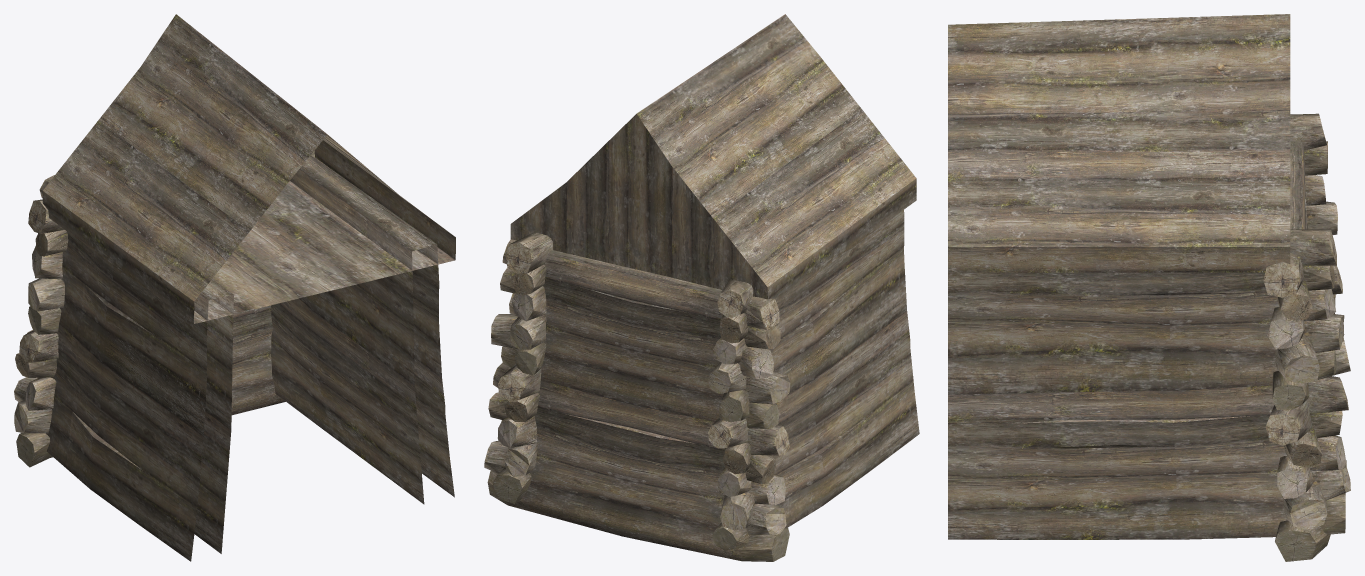
File: bg_atm_loghill_commonhouse09_sm_kdh.FBX
3 renders of one model, left to right at view 1: azimuth 30°, elevation 25°; view 2: azimuth 150°, elevation 25°; view 3: azimuth 270°, elevation 25°, orthographic. The views are drawn at different scales.
Visible parts, largest first — view 1: bg_atm_loghill_commonhouse09_sm_kdh; view 2: bg_atm_loghill_commonhouse09_sm_kdh; view 3: bg_atm_loghill_commonhouse09_sm_kdh.
Boxes of the visible parts, left/top/right/bottom form: bg_atm_loghill_commonhouse09_sm_kdh: left=14, top=14, right=455, bottom=561; bg_atm_loghill_commonhouse09_sm_kdh: left=484, top=14, right=919, bottom=561; bg_atm_loghill_commonhouse09_sm_kdh: left=948, top=14, right=1350, bottom=561.
Size of the model in its own units: 238 by 318 by 247.
